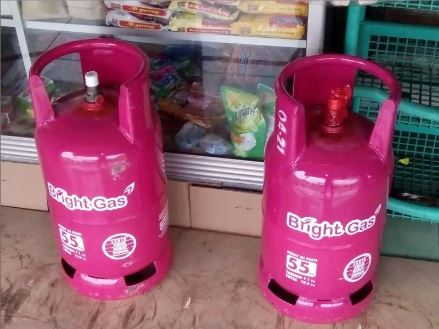bright_gas: (257, 53, 403, 322), (27, 38, 174, 302)
